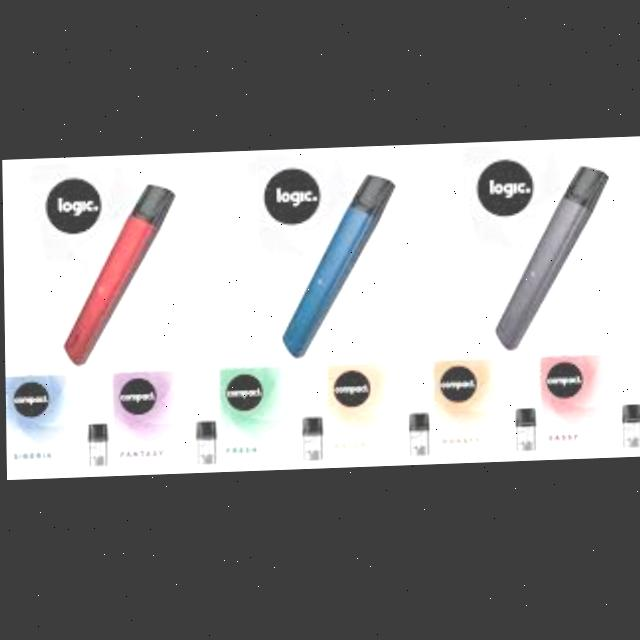vape: (492, 170, 616, 360), (282, 174, 401, 362), (55, 184, 178, 365)
